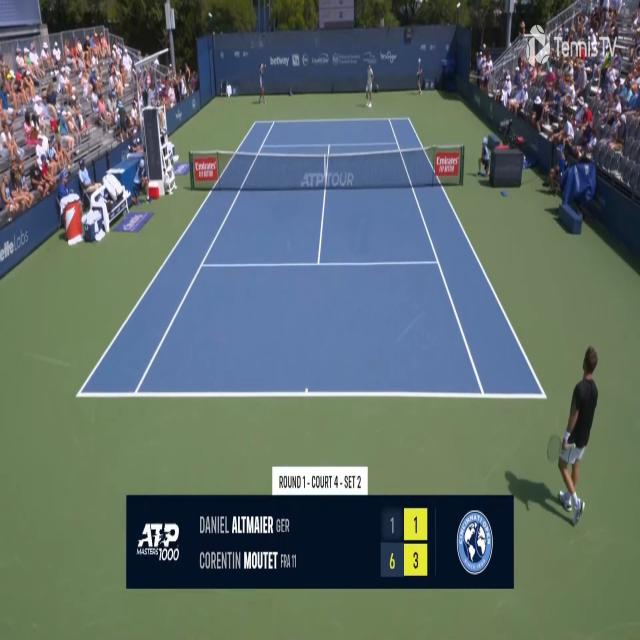tennis-player: (543, 339, 603, 524), (362, 63, 378, 108)
